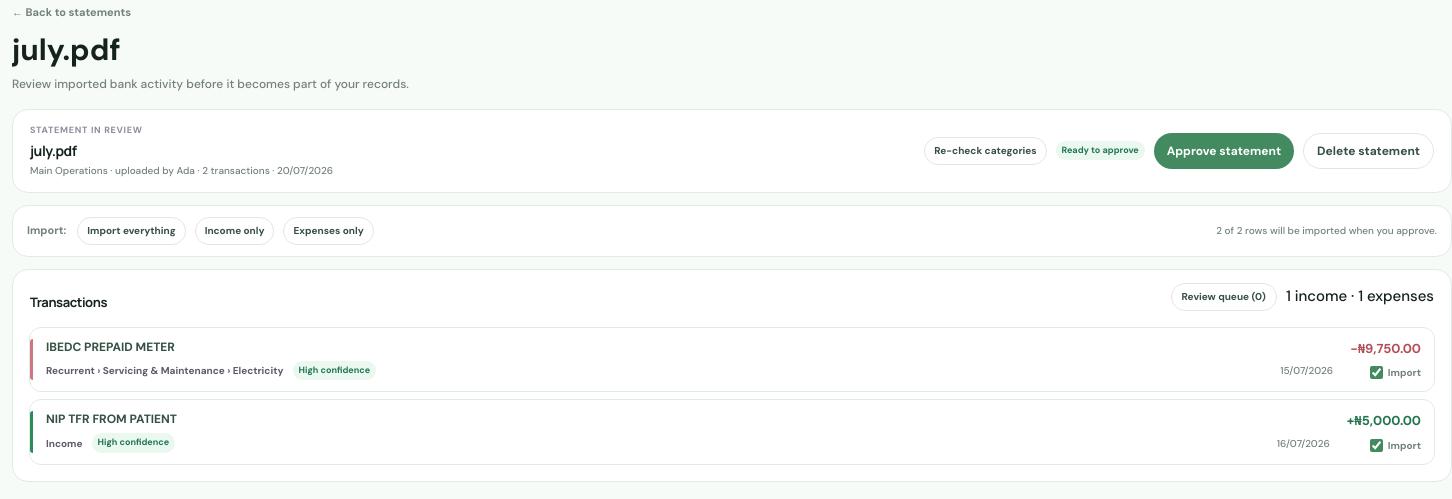
Test: deleting a statement › cancel keeps the statement
The image size is (1452, 499).
Click the button "Delete statement".
click(1369, 150)  # box [1303,132,1434,168]
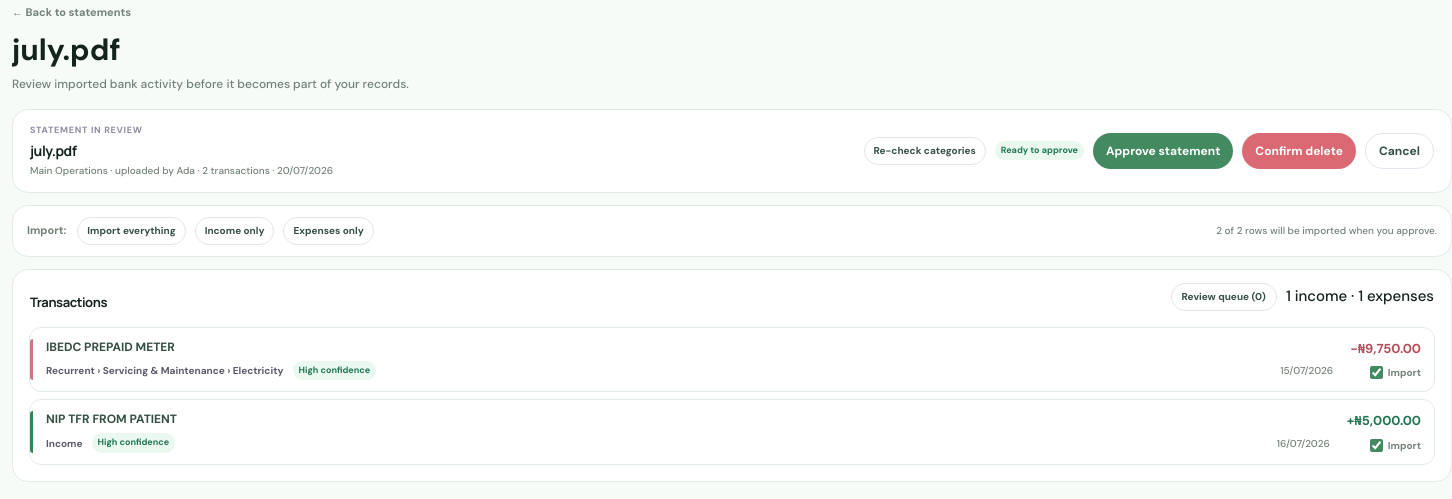
Click the button "Cancel".
click(1400, 150)  # box [1365,132,1434,168]
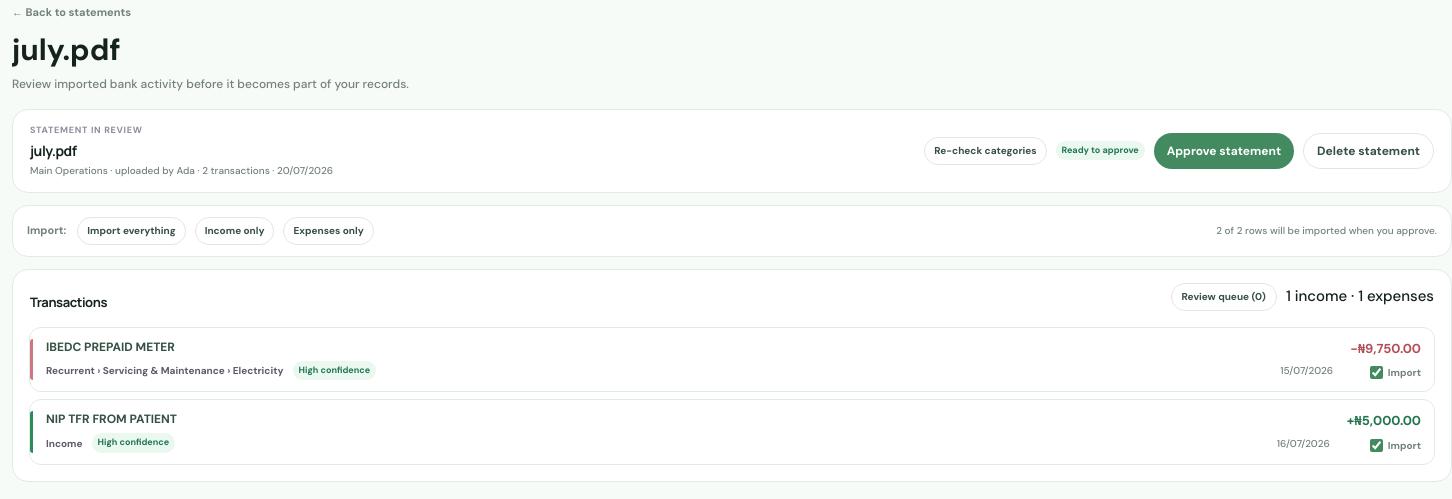
Expected: the button "Delete statement" is shown, [1303,132,1434,168]
